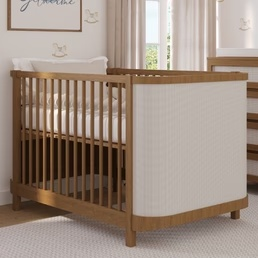crib: (11, 69, 247, 245)
